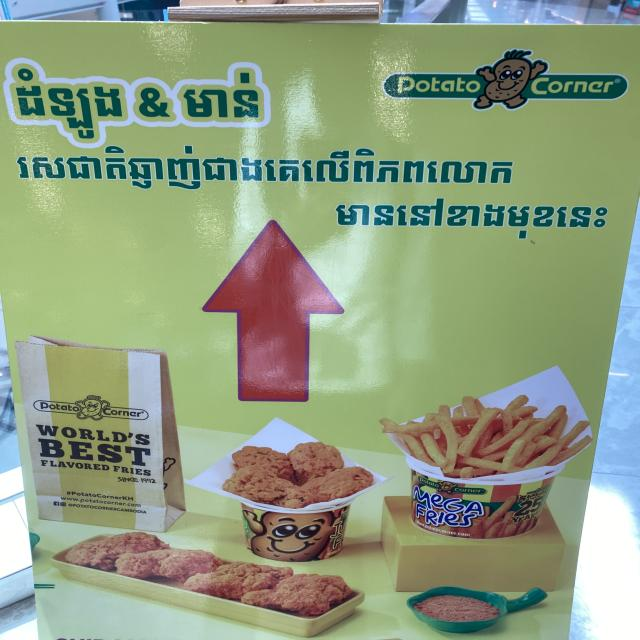2: (4, 59, 277, 149)
Yolov11kh: (16, 144, 529, 192), (332, 197, 612, 243)
